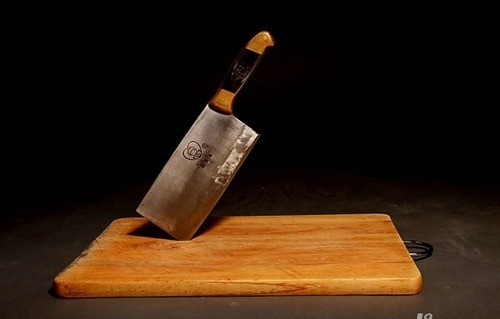knief: (132, 33, 283, 247)
